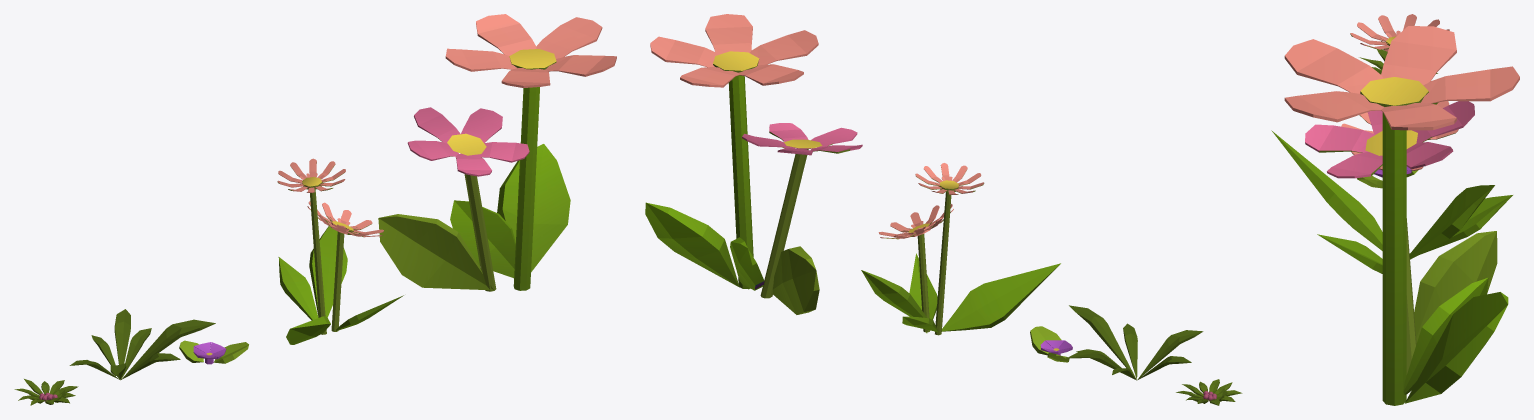
3 views of the same model, side by side, from view 1: azimuth 30°, elevation 25°; view 2: azimuth 150°, elevation 25°; view 3: azimuth 270°, elevation 25° (orthographic). The views are drawn at different scales.
Parts seen in each view (by area): view 1: Circle, Circle.002, Cube.005, Cube.004, Cube.013, Cube.006, Circle.001, Circle.006, Cube, Cube.003, Cube.021, Cube.002; view 2: Circle, Circle.002, Cube.004, Cube.002, Cube.013, Cube.005, Circle.001, Circle.006, Cube, Cube.006, Cube.021, Cube.001; view 3: Circle, Circle.002, Cube.004, Cube.005, Cube.002, Cube.006, Cube, Cube.003, Circle.001, Cube.001, Circle.006.
Boxes of the visible parts, x1,y1,x2,y2 form: Circle: [445, 14, 616, 290]; Circle.002: [407, 107, 529, 291]; Cube.005: [378, 214, 493, 290]; Cube.004: [497, 144, 570, 272]; Cube.013: [69, 309, 215, 380]; Cube.006: [450, 200, 515, 278]; Circle.001: [277, 158, 345, 334]; Circle.006: [307, 201, 383, 331]; Cube: [309, 226, 347, 317]; Cube.003: [278, 257, 318, 320]; Cube.021: [14, 379, 78, 405]; Cube.002: [286, 316, 330, 344]; Circle: [650, 14, 818, 289]; Circle.002: [742, 123, 862, 298]; Cube.004: [645, 202, 739, 287]; Cube.002: [942, 263, 1060, 331]; Cube.013: [1067, 305, 1203, 380]; Cube.005: [773, 246, 819, 314]; Circle.001: [915, 163, 984, 335]; Circle.006: [878, 204, 953, 332]; Cube: [861, 270, 937, 332]; Cube.006: [730, 237, 764, 290]; Cube.021: [1176, 379, 1242, 405]; Cube.001: [909, 253, 937, 333]; Circle: [1284, 26, 1519, 405]; Circle.002: [1305, 101, 1474, 374]; Cube.004: [1405, 292, 1508, 403]; Cube.005: [1414, 231, 1497, 342]; Cube.002: [1271, 130, 1382, 250]; Cube.006: [1403, 277, 1488, 394]; Cube: [1409, 185, 1494, 259]; Cube.003: [1410, 195, 1512, 254]; Circle.001: [1350, 14, 1449, 51]; Cube.001: [1317, 234, 1382, 273]; Circle.006: [1341, 101, 1458, 170].
Bounding box in the file's own units: 27.69 × 10.74 × 7.25.
Materials: 1 (1 with a texture image).
